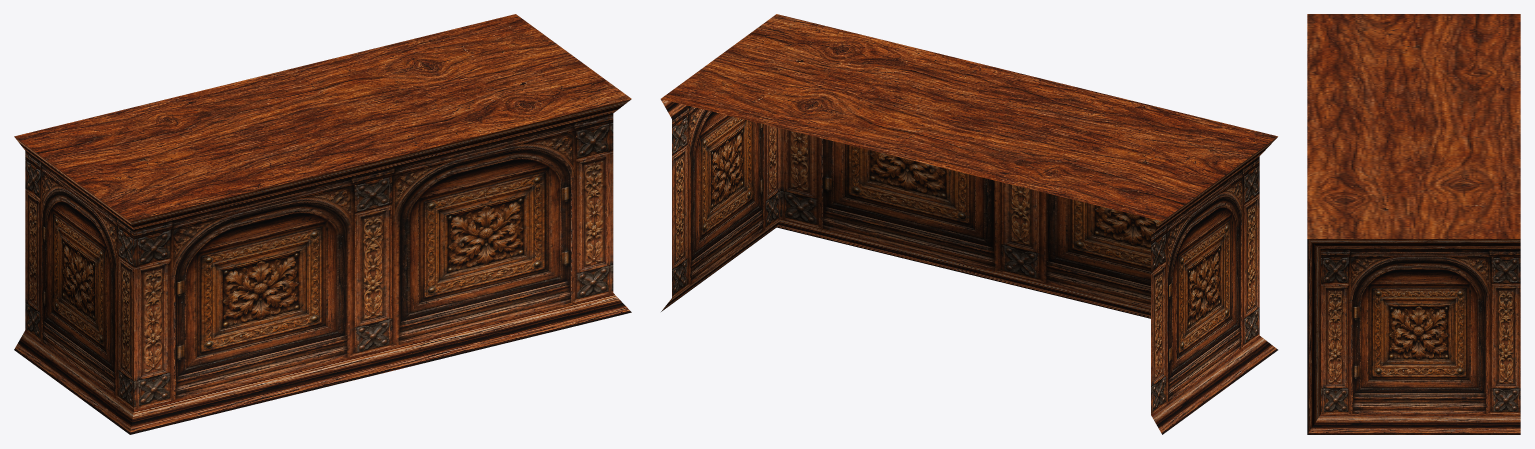
Rendered from mm9_deco_cabinet04.glb.
The picture shows the model from 3 angles, left to right: view 1: azimuth 30°, elevation 25°; view 2: azimuth 150°, elevation 25°; view 3: azimuth 270°, elevation 25°; orthographic projection. The views are drawn at different scales.
Parts seen in each view (by area): view 1: Cabinet04; view 2: Cabinet04; view 3: Cabinet04.
Boxes of the visible parts, bbox=[...] form: Cabinet04: bbox=[14, 14, 631, 434]; Cabinet04: bbox=[660, 14, 1277, 434]; Cabinet04: bbox=[1307, 14, 1520, 434].
Size of the model in its own units: 3.14 by 1.28 by 1.26.
Materials: 1 (1 with a texture image).
